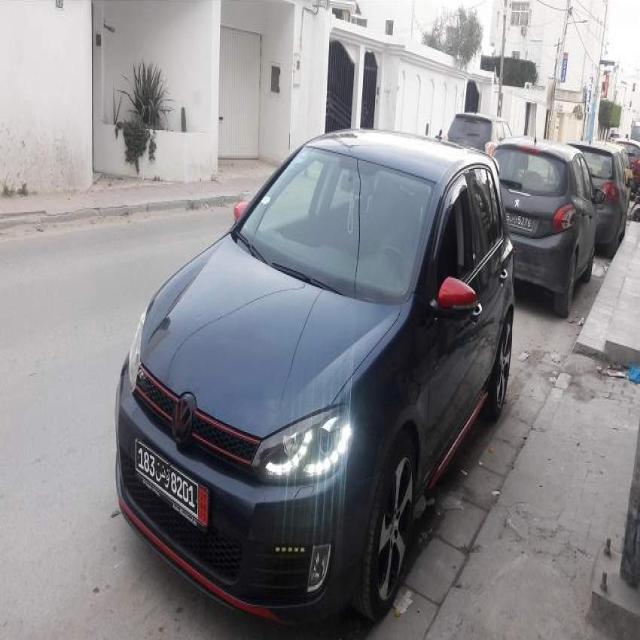licence plate: (136, 440, 198, 517)
